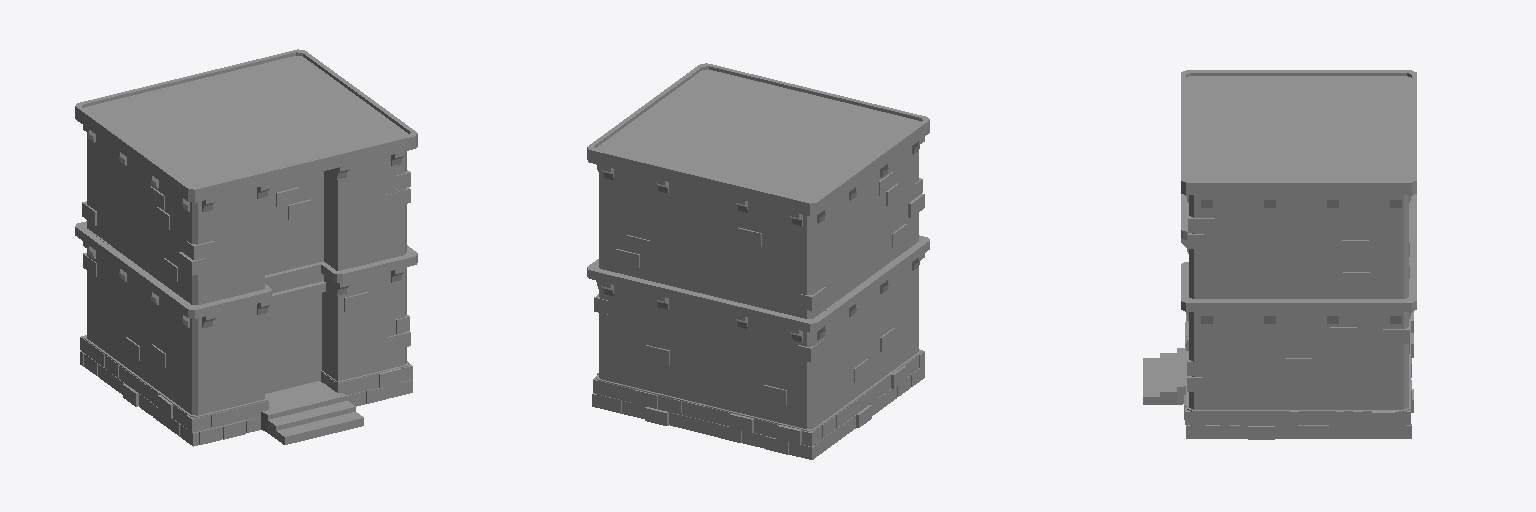
The model's file is 2Story_Center_Base.obj.
The picture shows the model from 3 angles: view 1: azimuth 30°, elevation 25°; view 2: azimuth 150°, elevation 25°; view 3: azimuth 270°, elevation 25°; orthographic projection.
Parts seen in each view (by area): view 1: 2Story_Center_Base_Cube.060; view 2: 2Story_Center_Base_Cube.060; view 3: 2Story_Center_Base_Cube.060.
Part boxes in pixels (left/top/right/bottom): 2Story_Center_Base_Cube.060: left=75, top=49, right=417, bottom=446; 2Story_Center_Base_Cube.060: left=587, top=63, right=929, bottom=459; 2Story_Center_Base_Cube.060: left=1143, top=70, right=1416, bottom=439.
Size of the model in its own units: 2.42 by 2.6 by 2.5.